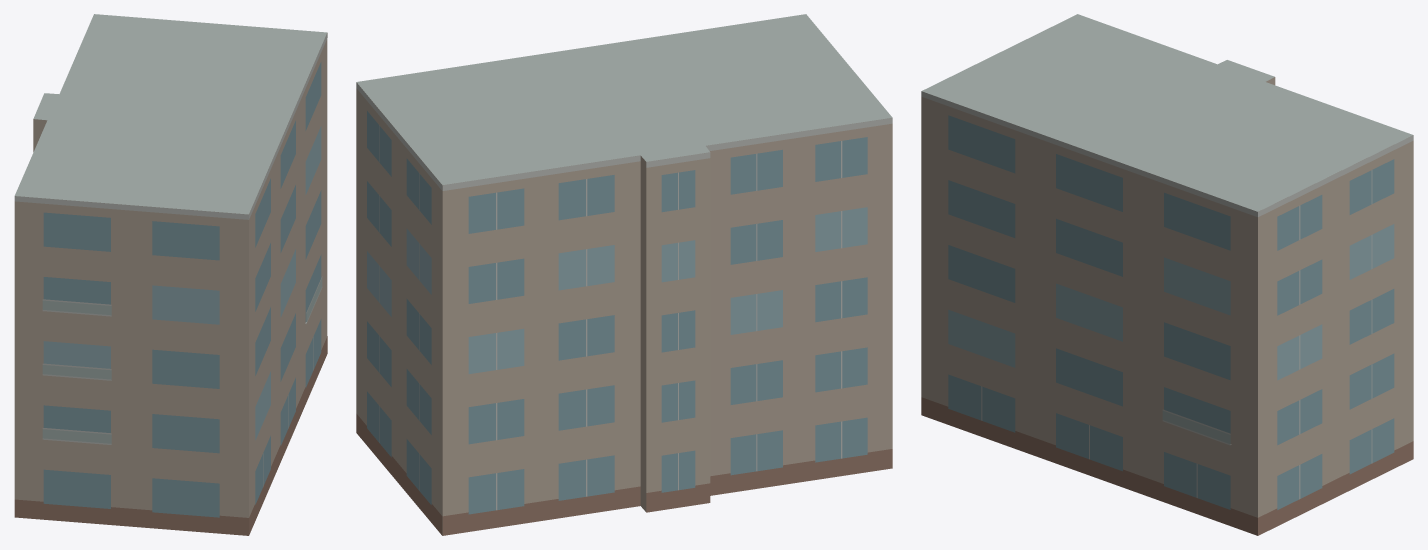
The model's file is survey-upis-32632963.glb.
3 renders of one model, left to right at view 1: azimuth 30°, elevation 25°; view 2: azimuth 150°, elevation 25°; view 3: azimuth 270°, elevation 25°, orthographic. The views are drawn at different scales.
Parts seen in each view (by area): view 1: survey-upis-32632963.tmp; view 2: survey-upis-32632963.tmp; view 3: survey-upis-32632963.tmp.
Boxes of the visible parts, x1=… form: survey-upis-32632963.tmp: x1=14, y1=14, x2=327, y2=535; survey-upis-32632963.tmp: x1=356, y1=14, x2=892, y2=535; survey-upis-32632963.tmp: x1=921, y1=14, x2=1413, y2=535.
Size of the model in its own units: 18.87 by 14.4 by 19.83.
